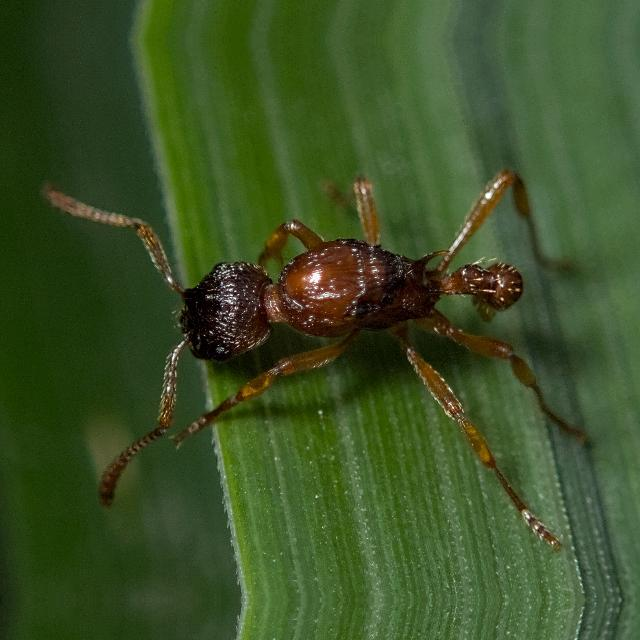Myrmica: (95, 157, 590, 461), (529, 518, 563, 552)
